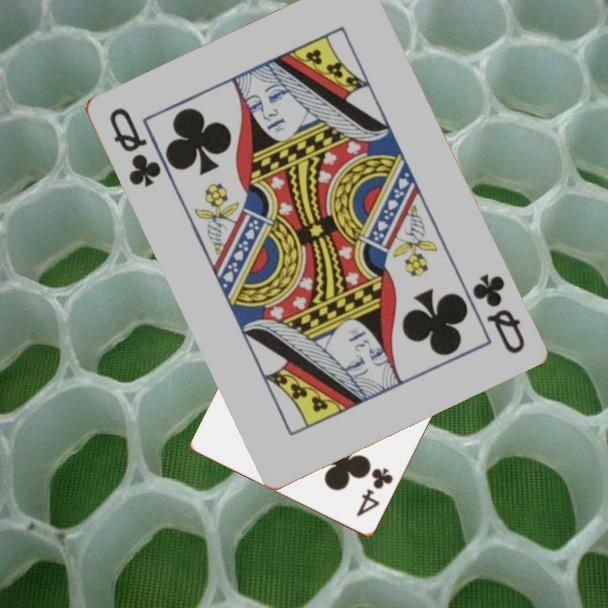c04: (353, 464, 396, 520)
c12: (468, 270, 527, 357), (105, 104, 164, 190)
